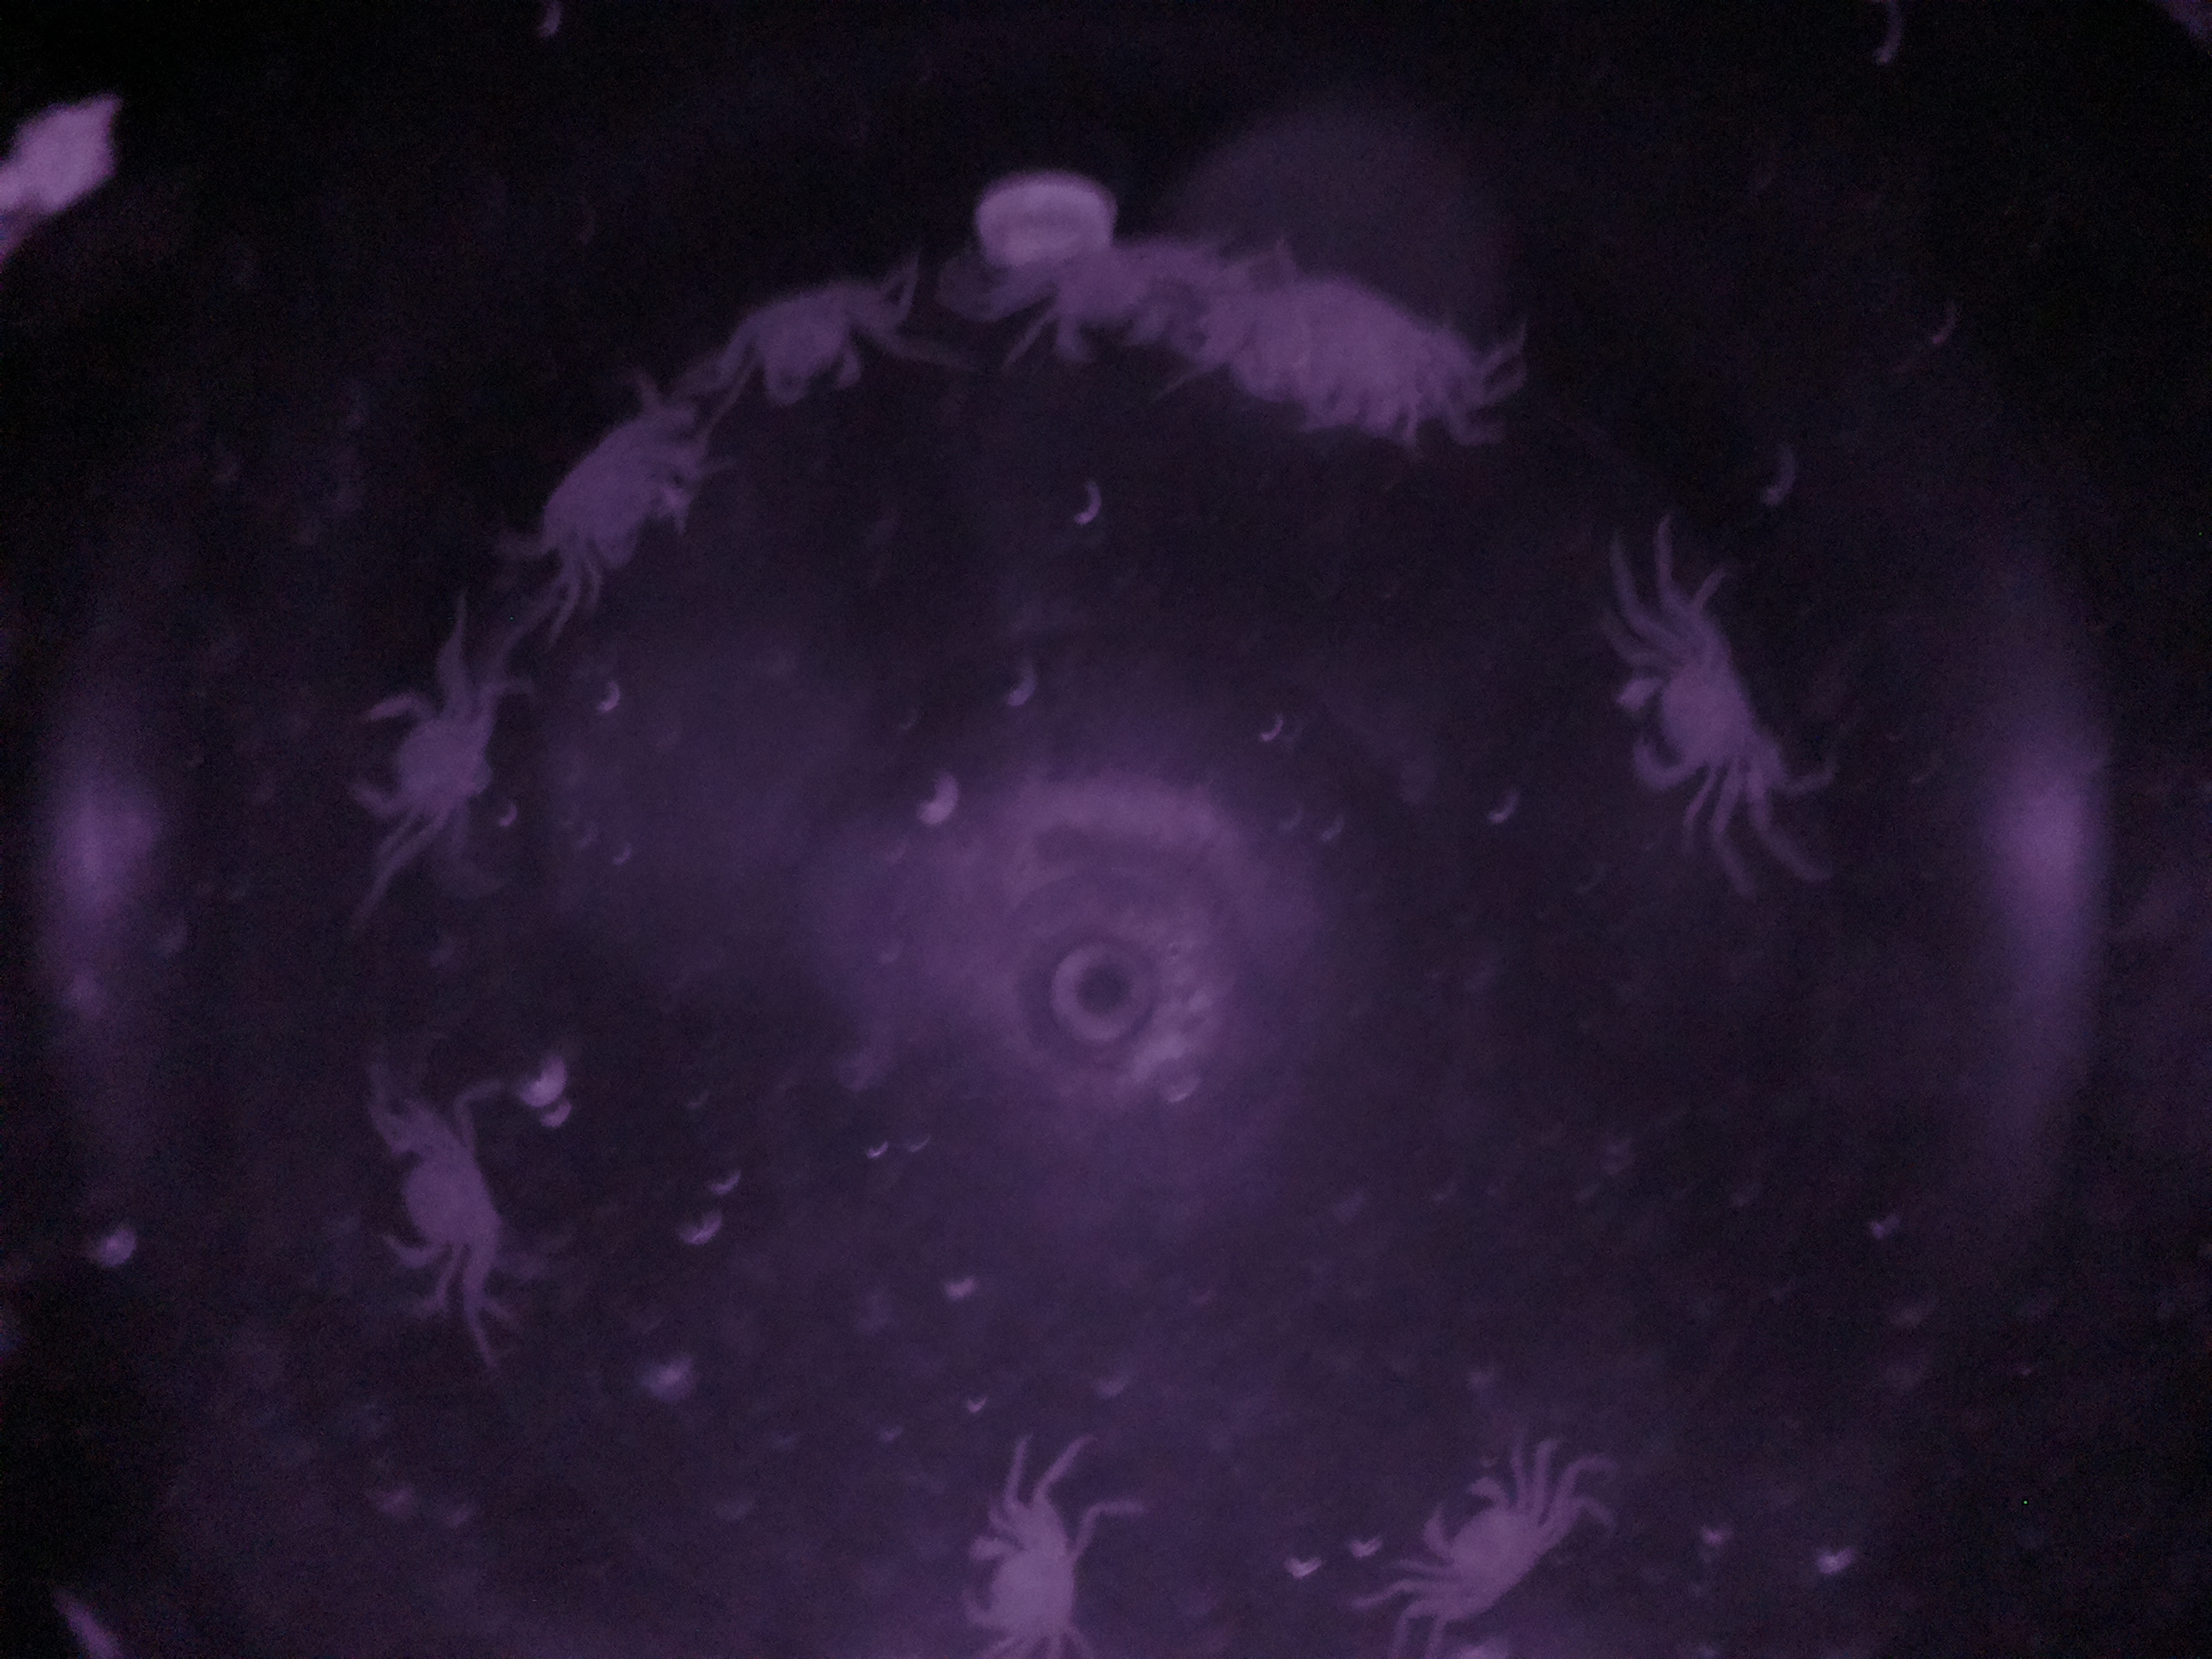Crab: (1400, 1450, 1573, 1624), (941, 1502, 1109, 1659)
